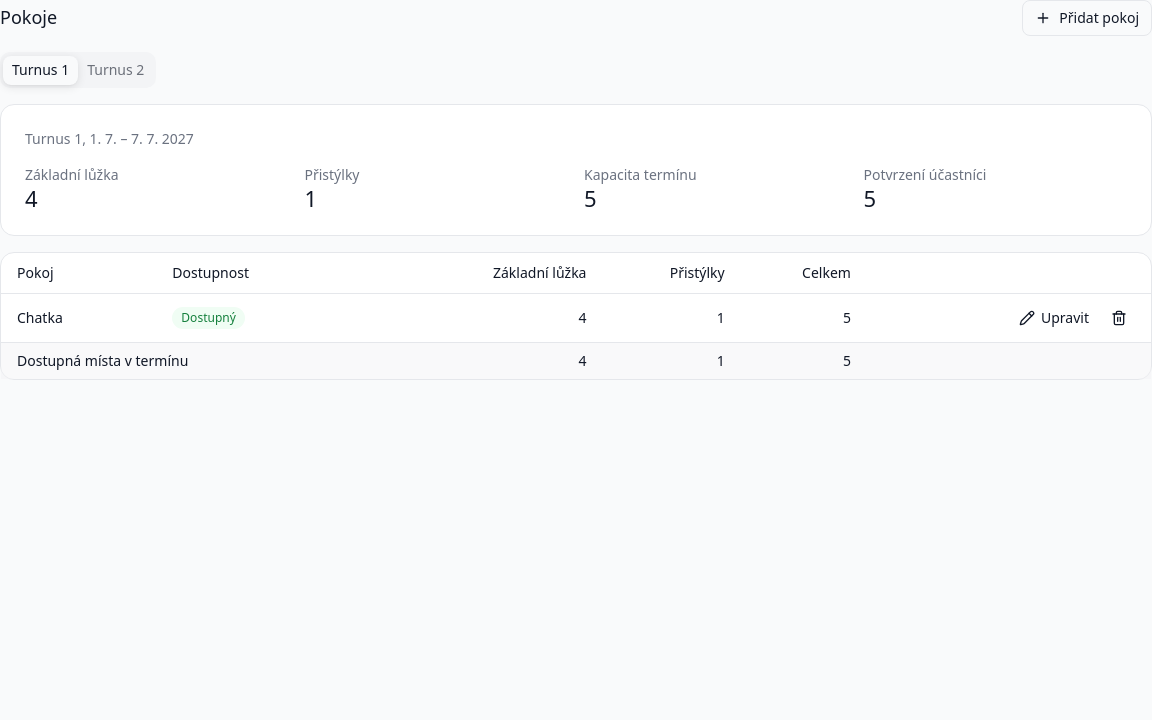
Test case: RoomsSection › on a server error shows an error, keeps the values and no success
Click the button with aria-label "Upravit pokoj Chatka". click: (1054, 318)
box: [1009,302,1099,334]
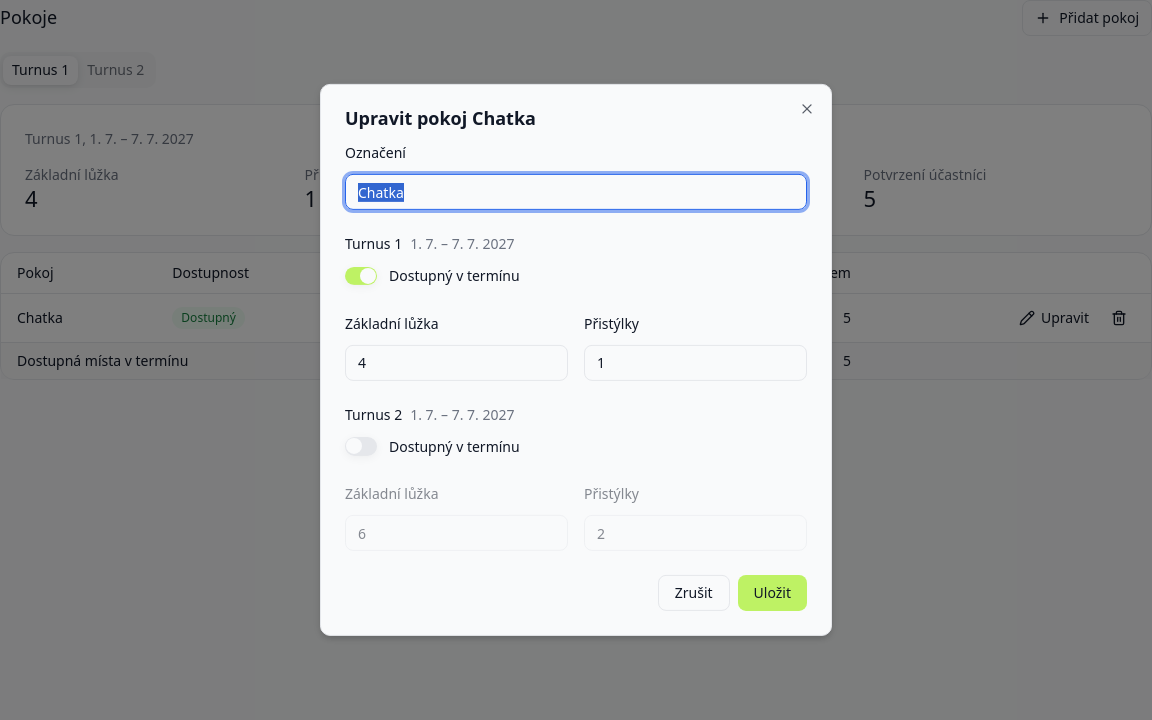
Replace the text in the field labelled "Označení" with "Nová chatka". click: (576, 192)
box: [345,174,807,210]
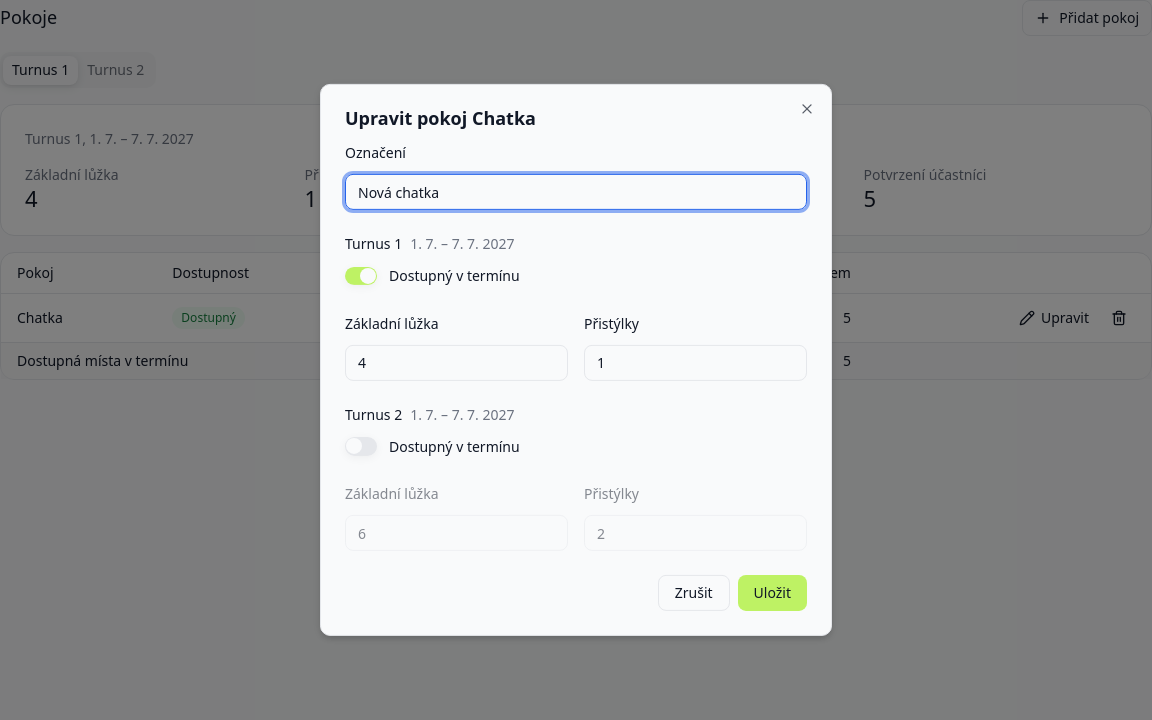
Replace the text in the 1st field labelled "Základní lůžka" with "3". click: (456, 363)
box: [345,345,568,381]
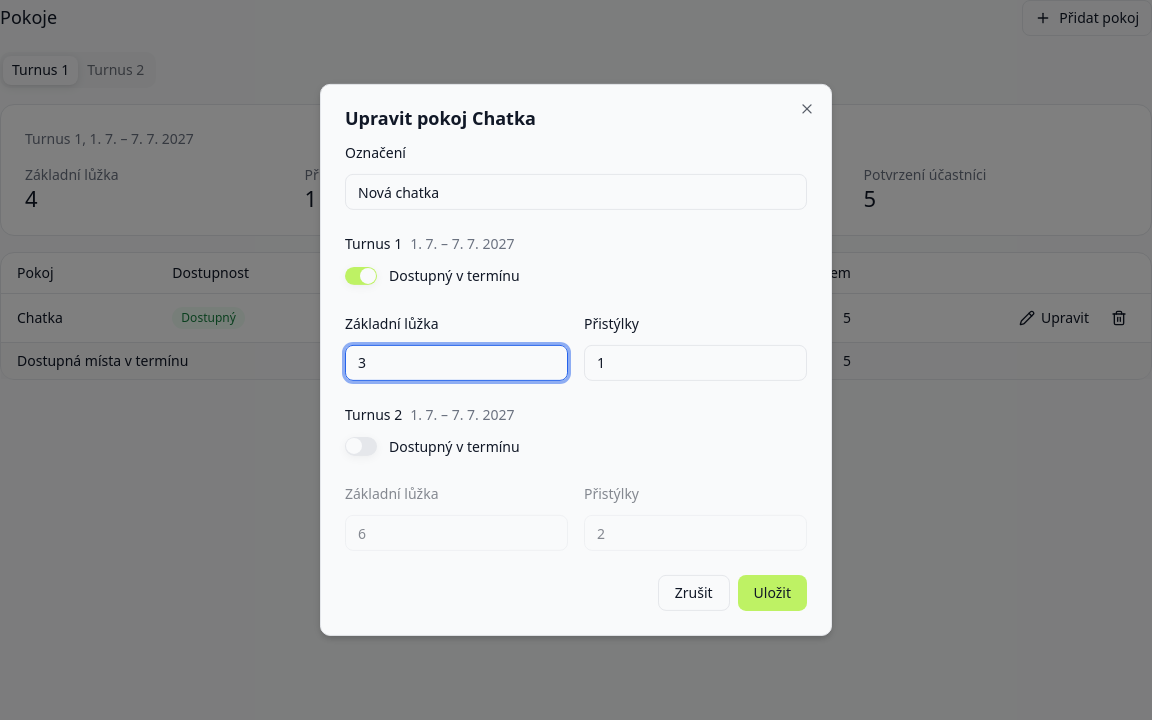
Click the button "Uložit". click: (772, 593)
box: [738,575,807,611]
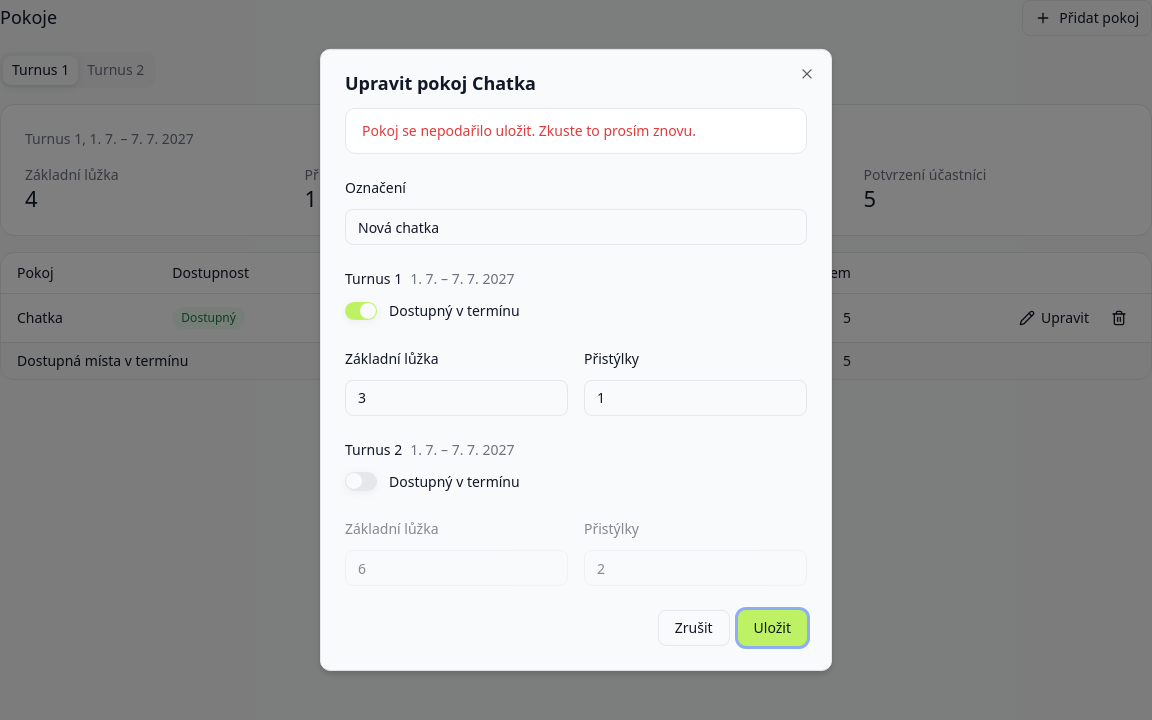
Expected: the dialog is shown, [320,49,832,671]
Expected: the text "Pokoj se nepodařilo uložit. Zkuste to prosím znovu." is shown, [362,121,696,140]
Click the button "Uložit". click: (772, 628)
box: [738,610,807,646]
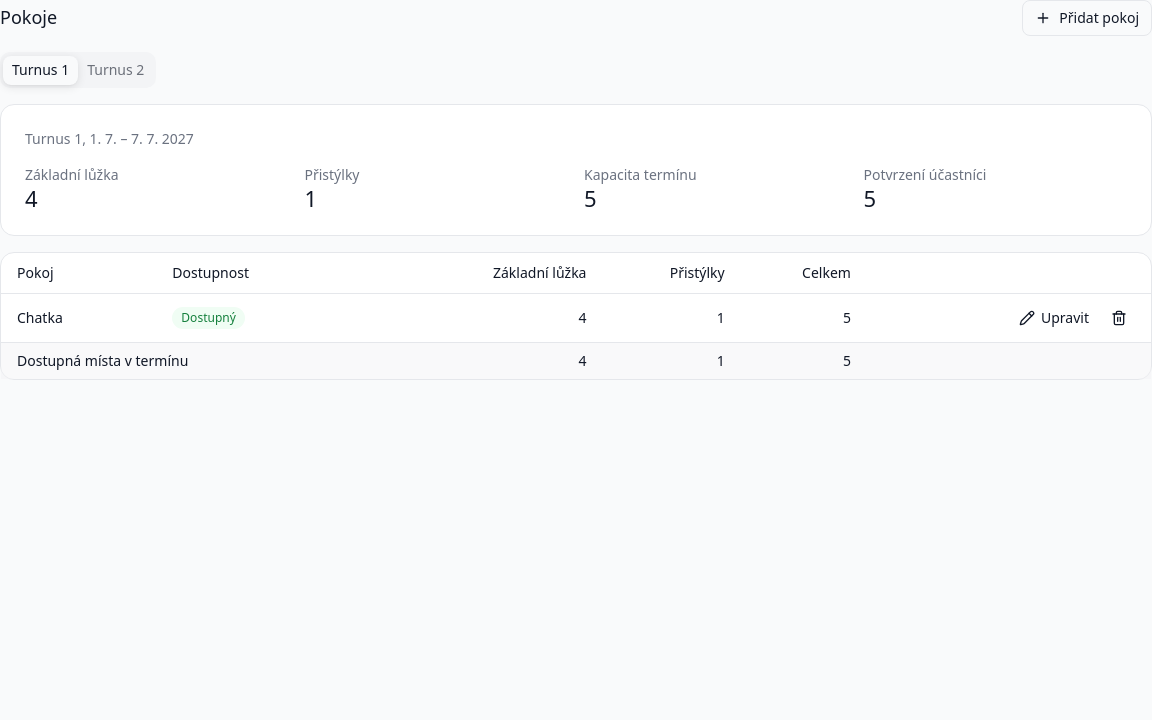
Expected: the dialog is gone
